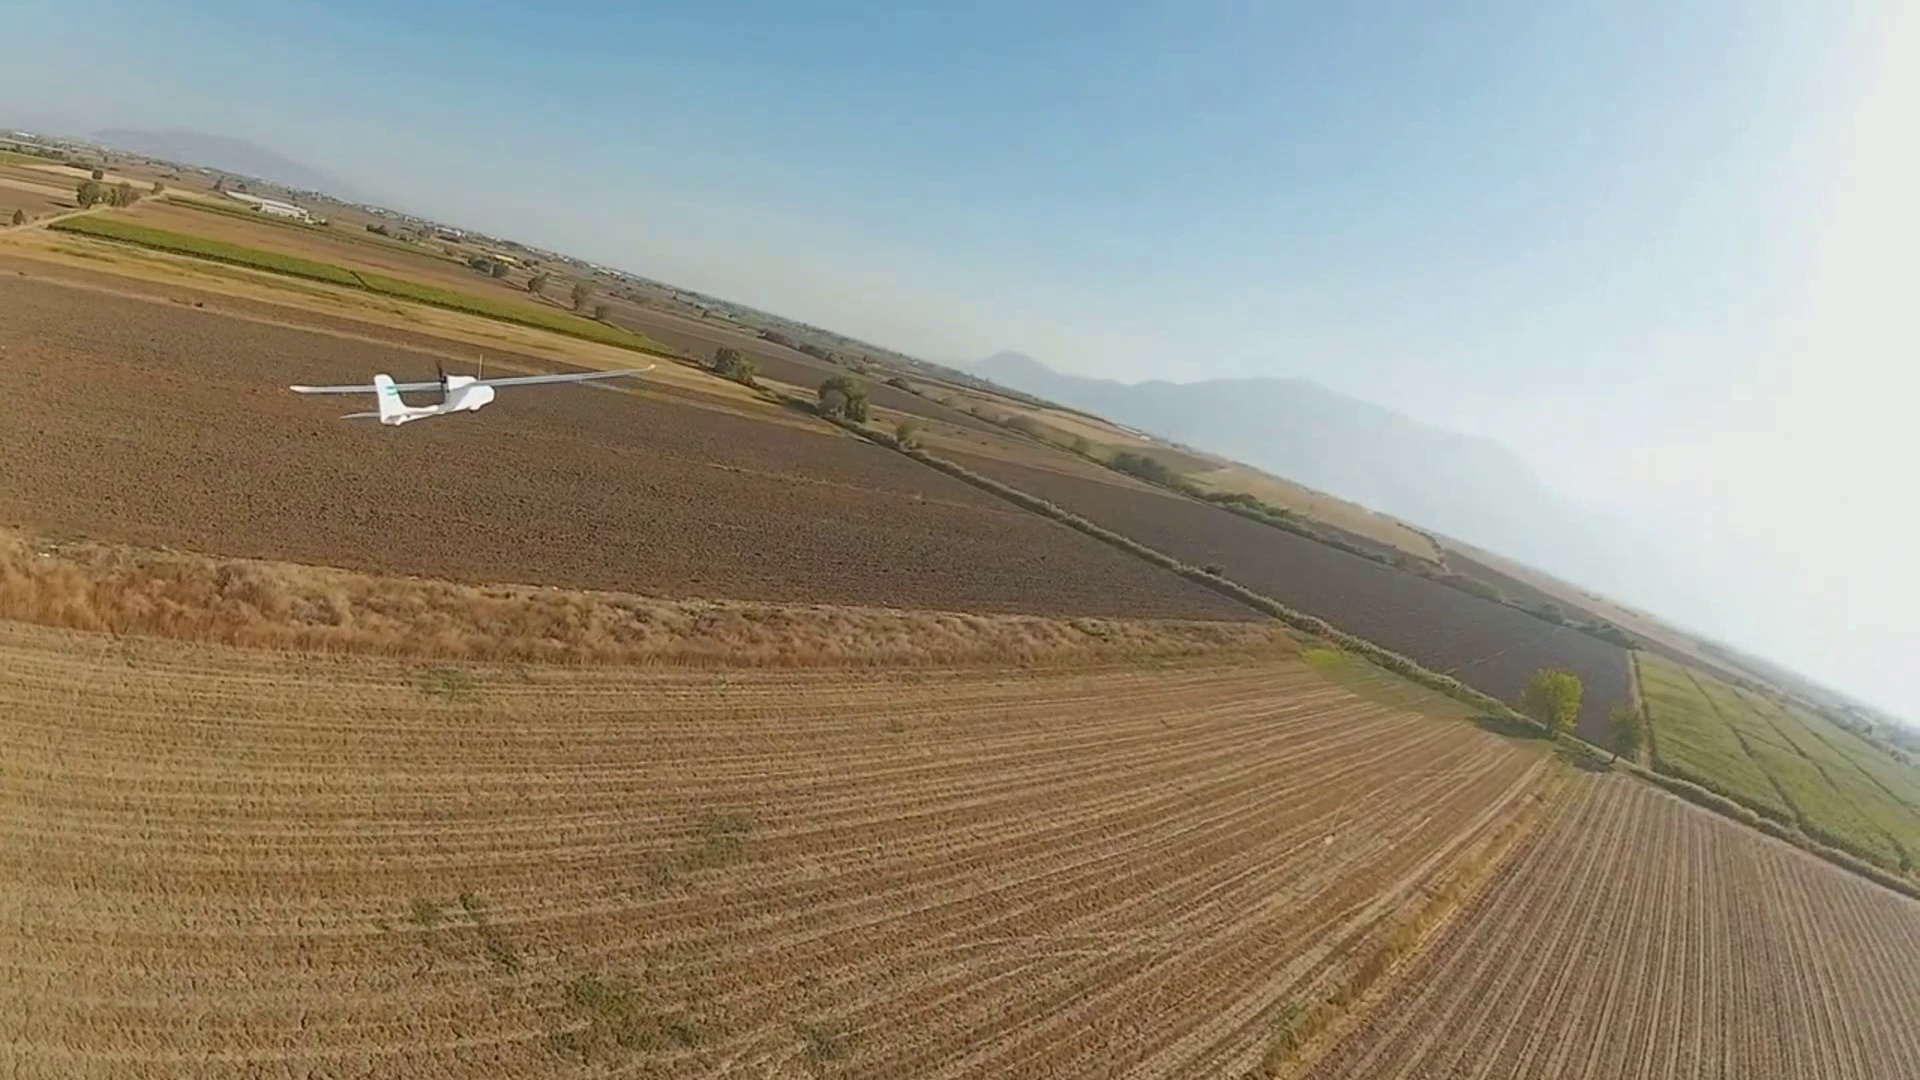airplane: (286, 369, 495, 422), (371, 369, 495, 425)
